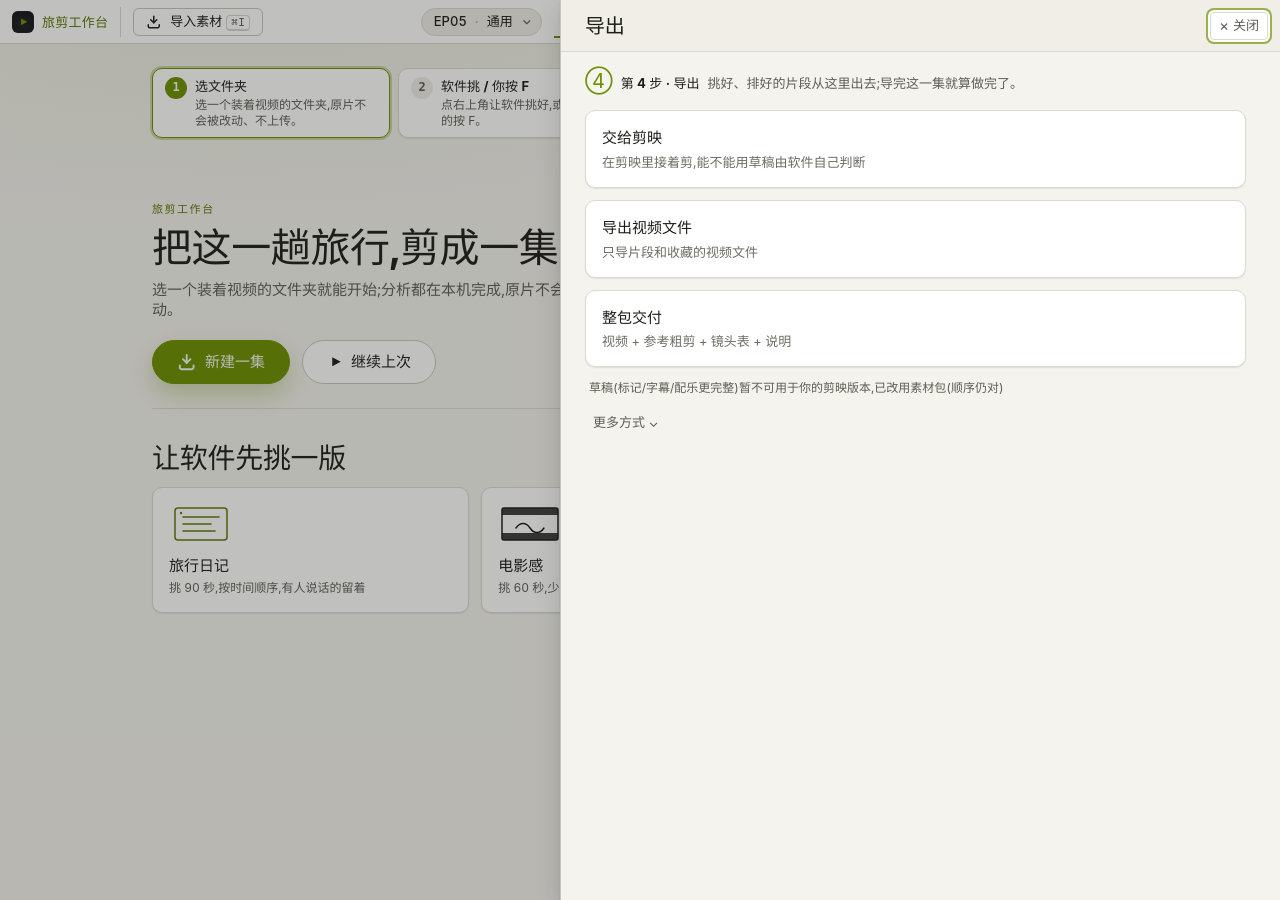
Test case: R19 §6 交付:点「交给剪映」一次即出素材包 › 剪映版本未核对 + 记过文件夹:点卡即 exportJianyingKit(上次目录),不弹面板、不用再点第二颗按钮
The image size is (1280, 900).
What coordinates should you click on to do the following:
click the button "交给剪映 在剪映里接着剪,能不能用草稿由软件自己判断"
I would click on:
 (632, 138)
Its box is [585,110,1246,188].
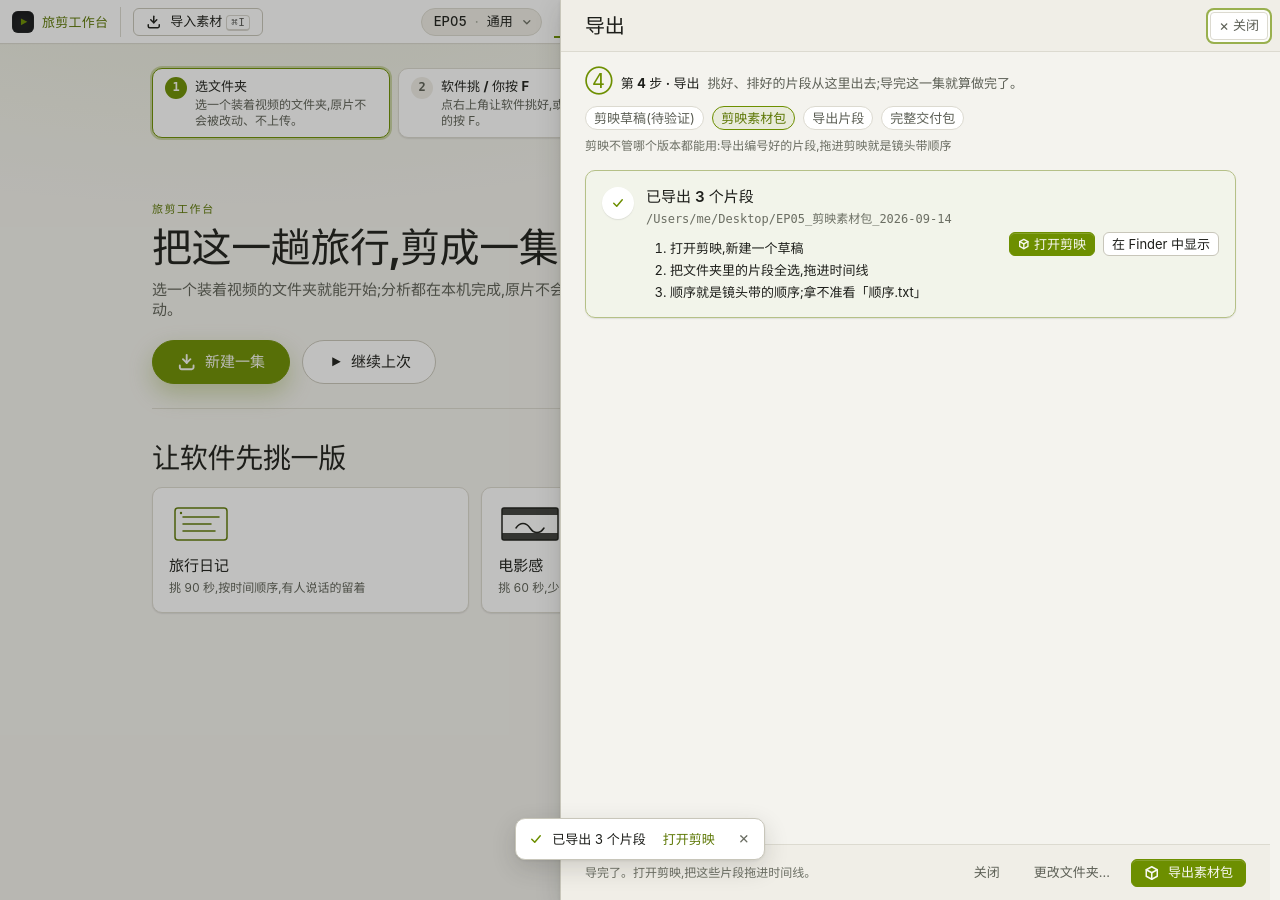
Now the 2nd text "已导出 3 个片段" is shown, box [552,830,646,848]
